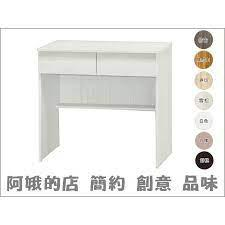desk: (26, 28, 182, 171)
